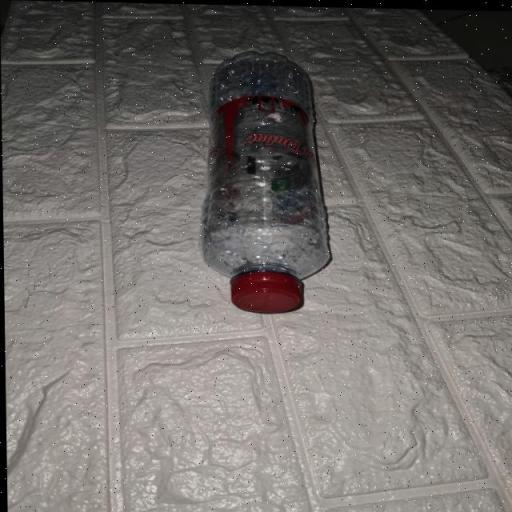plastic: (203, 48, 336, 313)
